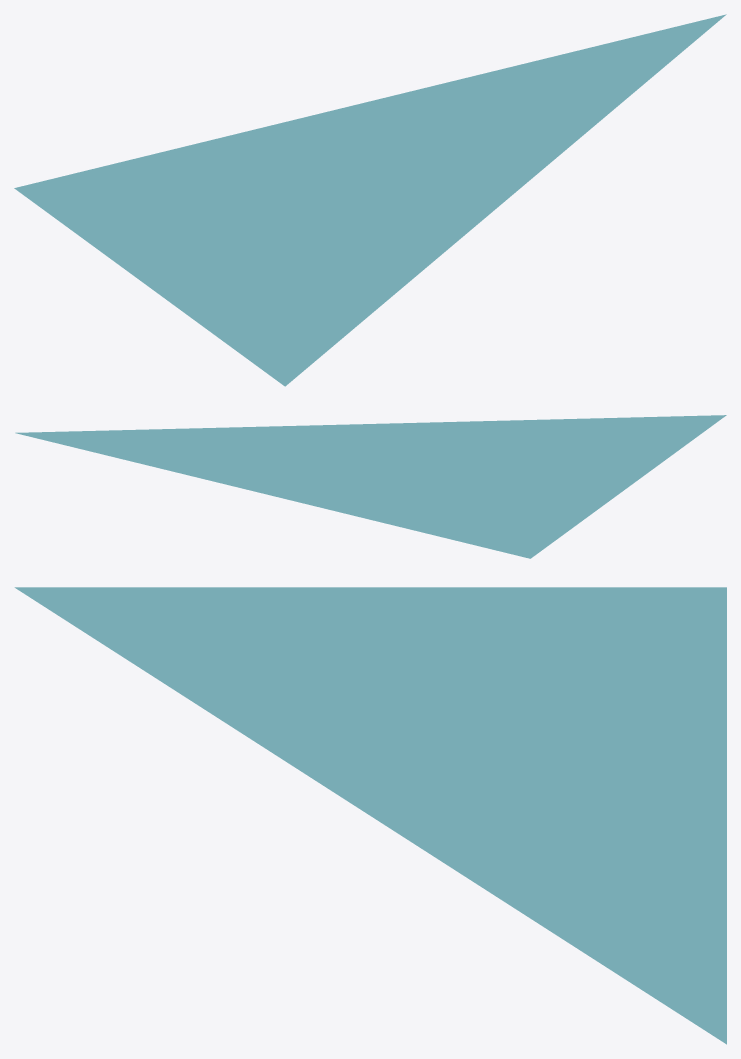
3 renders of one model, top to bottom at view 1: azimuth 30°, elevation 25°; view 2: azimuth 150°, elevation 25°; view 3: azimuth 270°, elevation 25°, orthographic. The views are drawn at different scales.
Parts seen in each view (by area): view 1: city; view 2: city; view 3: city.
Part boxes in pixels (left/top/right/bottom): city: left=14, top=14, right=726, bottom=386; city: left=15, top=415, right=726, bottom=558; city: left=14, top=587, right=726, bottom=1044.
Bounding box in the file's own units: 9.42 × 0 × 6.2.
